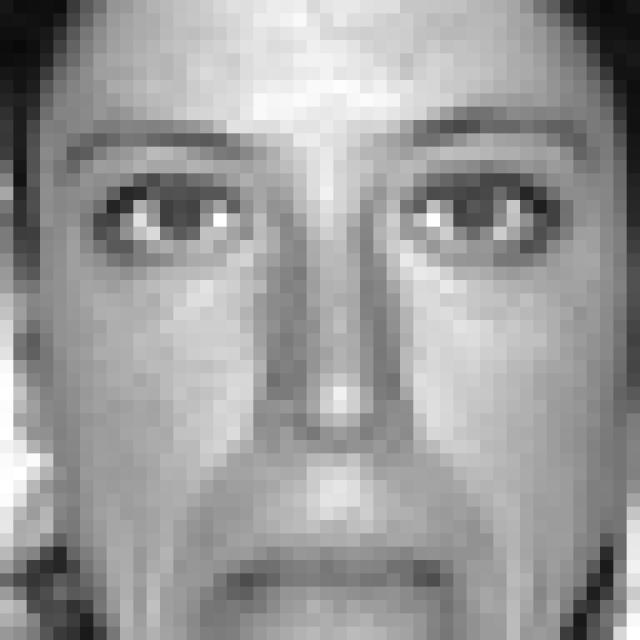disgust: (65, 116, 590, 640)
